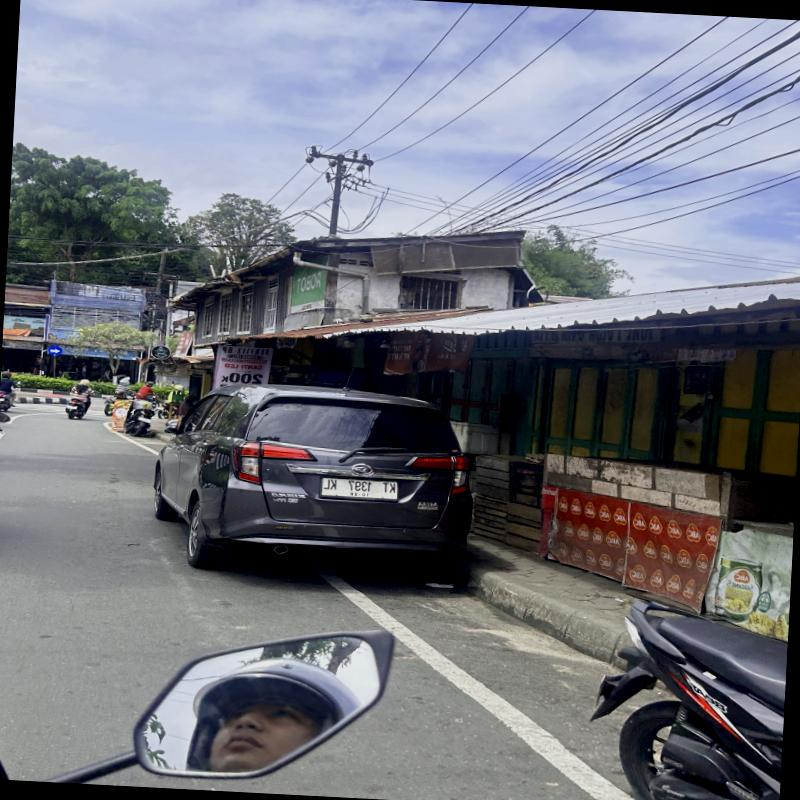license plate on a car: (320, 478, 397, 500)
